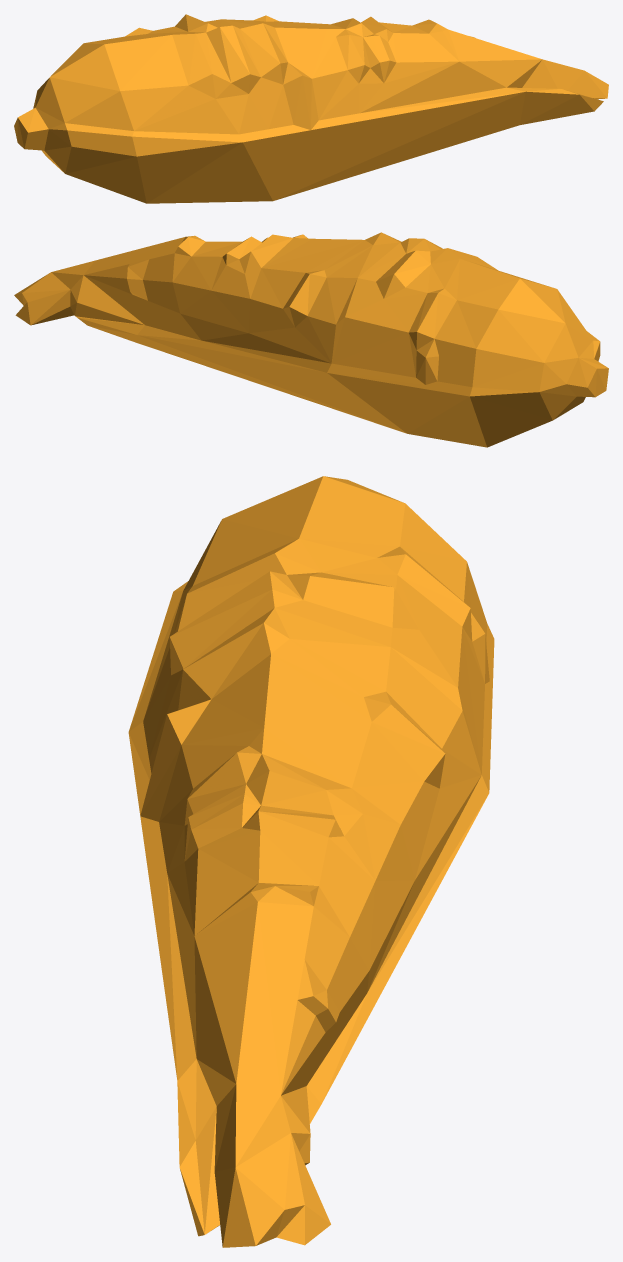
File: SM_Corn_Peeled.fbx
3 renders of one model, top to bottom at view 1: azimuth 30°, elevation 25°; view 2: azimuth 150°, elevation 25°; view 3: azimuth 270°, elevation 25°, orthographic. The views are drawn at different scales.
Visible parts, largest first — view 1: corn-peeled; view 2: corn-peeled; view 3: corn-peeled.
Part boxes in pixels (bbox=[...]): corn-peeled: bbox=[14, 14, 608, 203]; corn-peeled: bbox=[14, 232, 608, 447]; corn-peeled: bbox=[128, 476, 494, 1247].
Size of the model in its own units: 0.4245 by 0.1191 by 0.1184.
